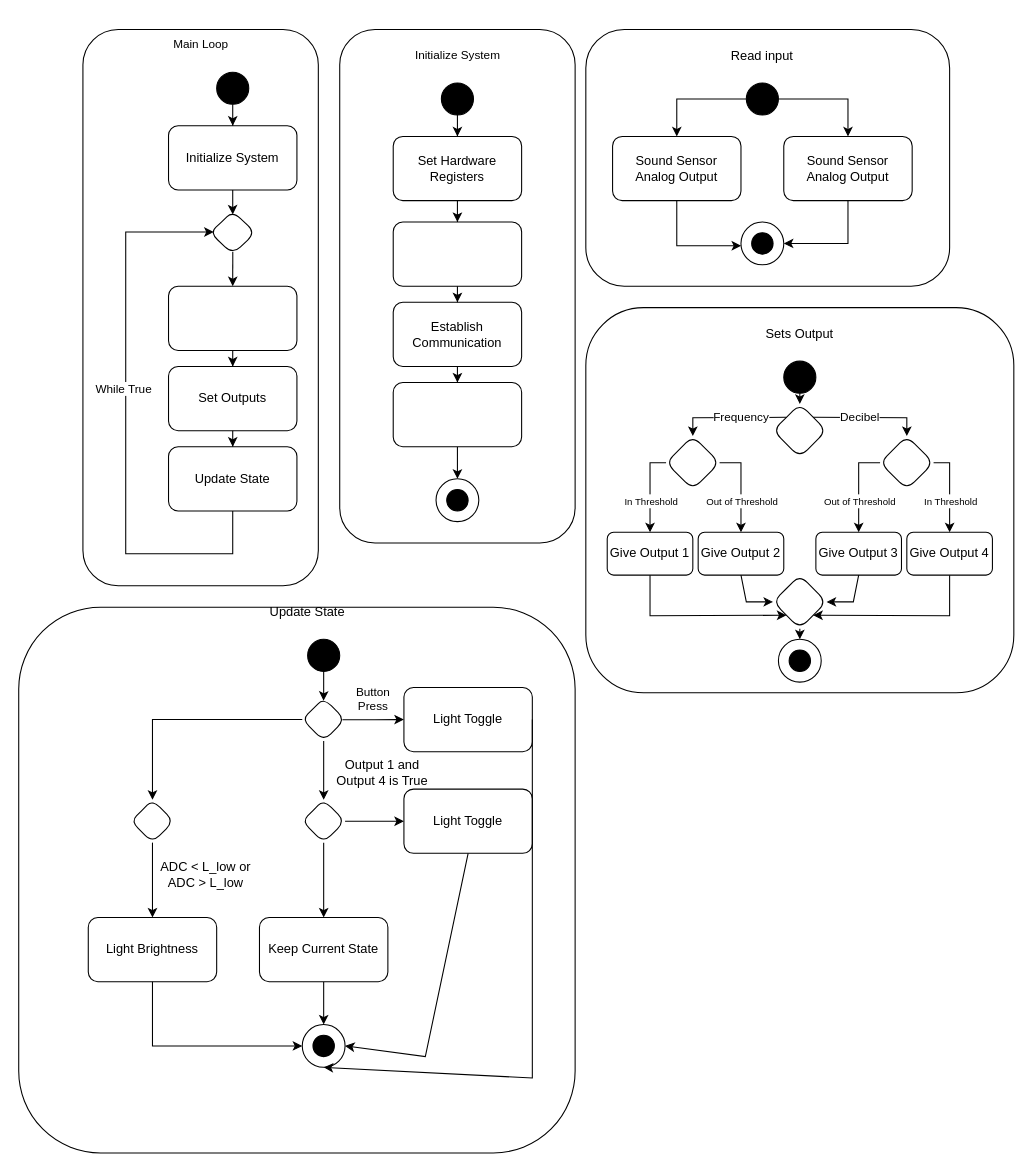
Some shapes in this 1033 by 1172 pixel diagram are drawn without their labels. Here are the shapes that lost their labels. From the top down, the centre of each, then its label:
At [457,253]: "Reset Internal Varibles".
At [232,317]: "Read Inputs".
At [457,414]: "Set State 000".
